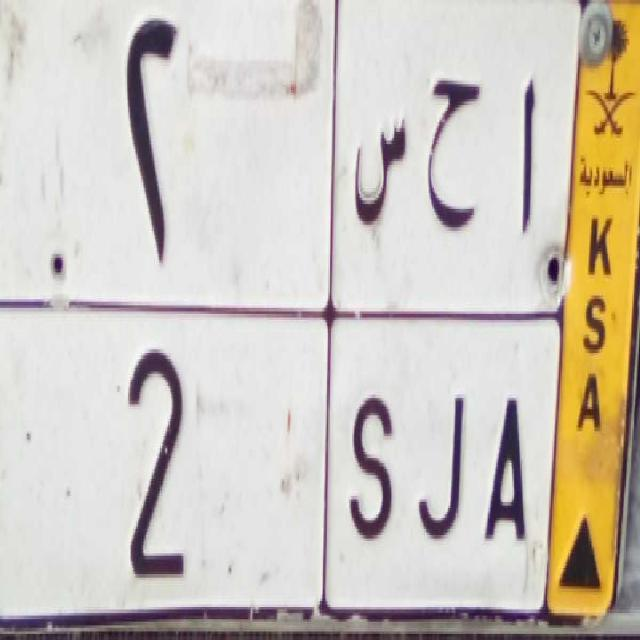license_plate: (0, 295, 558, 621)
